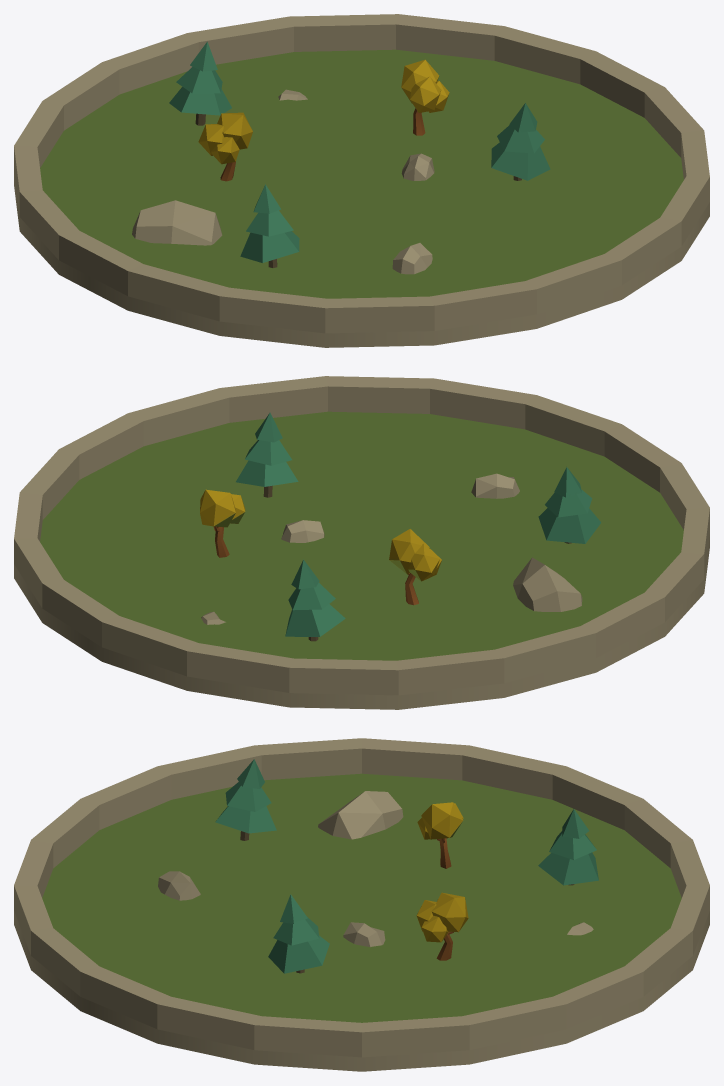
The model's file is escenario1.fbx.
3 renders of one model, top to bottom at view 1: azimuth 30°, elevation 25°; view 2: azimuth 150°, elevation 25°; view 3: azimuth 270°, elevation 25°, orthographic.
Visible parts, largest first — view 1: pCylinder3; view 2: pCylinder3; view 3: pCylinder3.
Boxes of the visible parts, <box> form: pCylinder3: <box>14,14,709,347</box>; pCylinder3: <box>14,376,709,709</box>; pCylinder3: <box>14,738,709,1071</box>.
Bounding box in the file's own units: 2911 × 458 × 2911.
